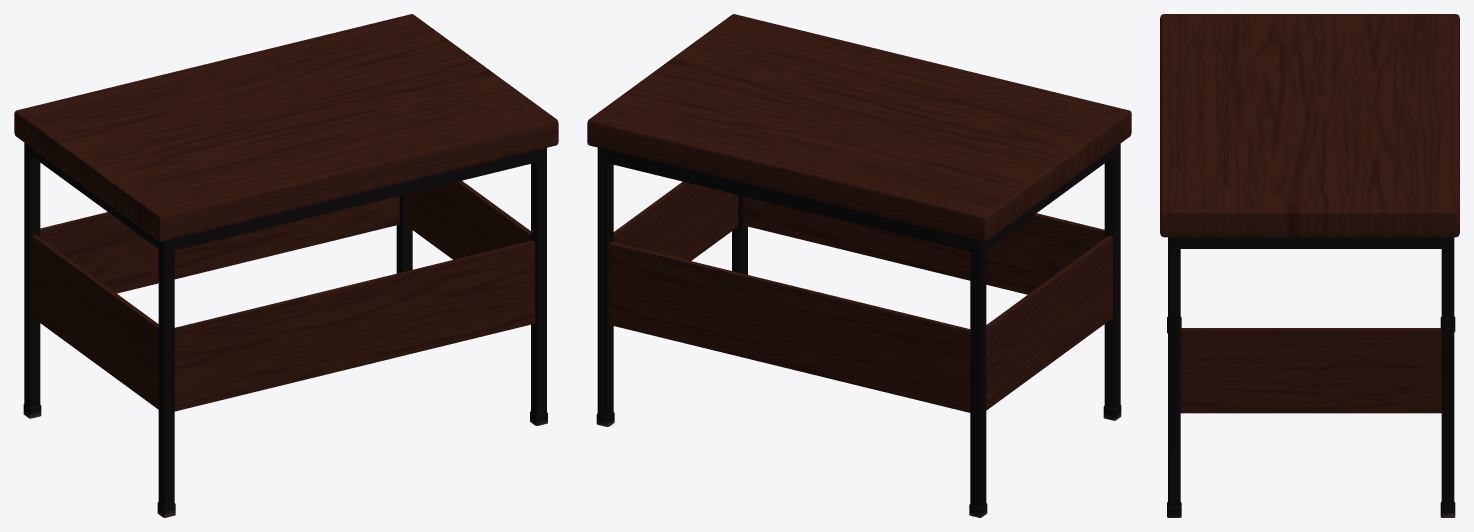
The model's file is 13_desk.fbx.
3 views of the same model, side by side, from view 1: azimuth 30°, elevation 25°; view 2: azimuth 150°, elevation 25°; view 3: azimuth 270°, elevation 25° (orthographic).
Parts seen in each view (by area): view 1: pCube2, pCube14, pCube17, pCube13, pCube15, pCube16; view 2: pCube2, pCube13, pCube17, pCube14, pCube15, pCube16; view 3: pCube2, pCube16, pCube17.
Boxes of the visible parts, box(x1,y1,x2,y2) form: pCube2: box(14, 14, 558, 241); pCube14: box(174, 240, 535, 411); pCube17: box(23, 143, 547, 517); pCube13: box(40, 196, 399, 293); pCube15: box(32, 234, 158, 409); pCube16: box(406, 180, 530, 259); pCube2: box(587, 14, 1131, 241); pCube13: box(609, 242, 970, 412); pCube17: box(596, 143, 1121, 517); pCube14: box(744, 197, 1104, 294); pCube15: box(986, 235, 1112, 410); pCube16: box(613, 181, 738, 260); pCube2: box(1160, 14, 1459, 237); pCube16: box(1180, 328, 1441, 413); pCube17: box(1167, 237, 1455, 517).
Size of the model in its own units: 110 by 80.26 by 70.
